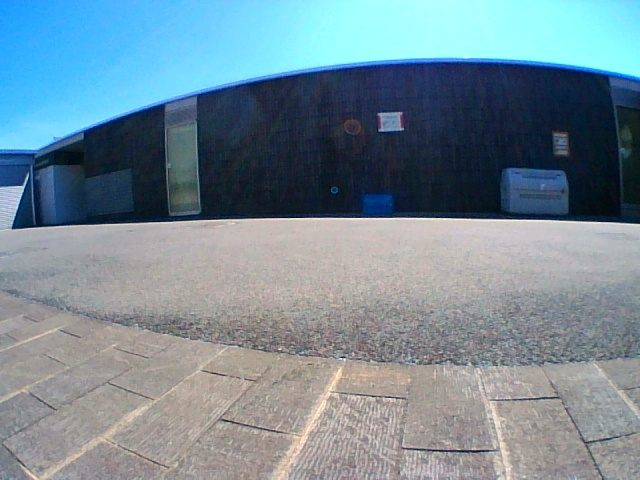blue_box: (362, 194, 391, 214)
